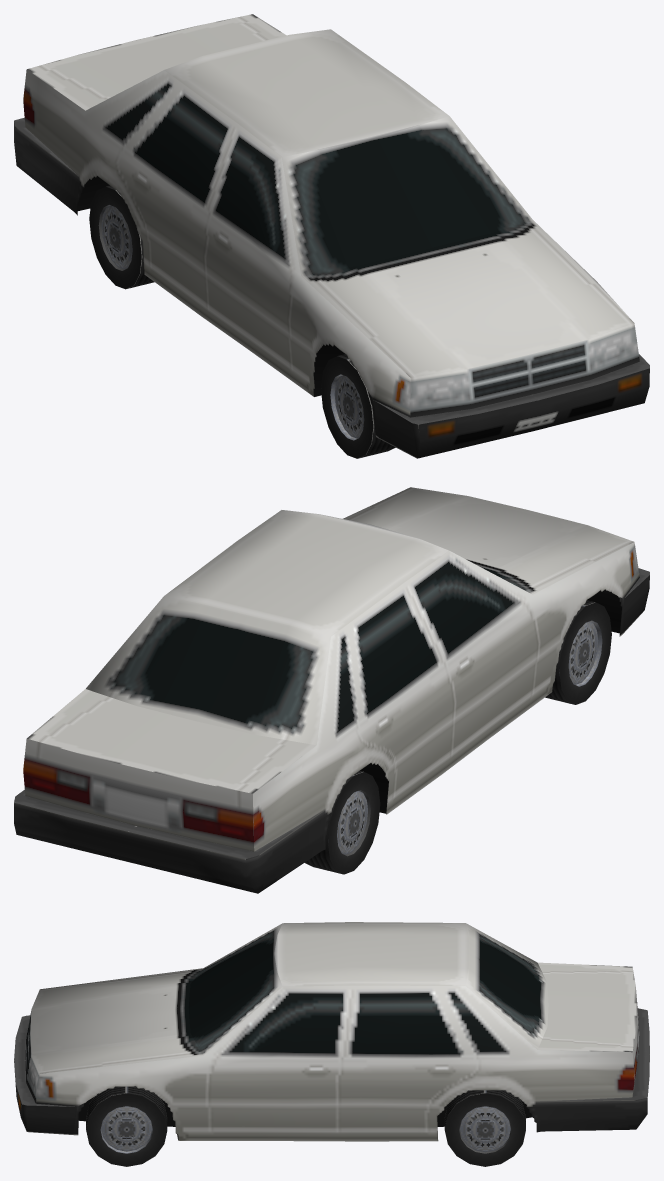
File: sedan.obj
3 views of the same model, one above another, from view 1: azimuth 30°, elevation 25°; view 2: azimuth 150°, elevation 25°; view 3: azimuth 270°, elevation 25° (orthographic). The views are drawn at different scales.
Visible parts, largest first — view 1: Body_Cube.001, Wheel_FR_Cylinder, Wheels_RR_Cylinder.003; view 2: Body_Cube.001, Wheels_RR_Cylinder.003, Wheel_FR_Cylinder; view 3: Body_Cube.001, Wheels_FL_Cylinder.002, Wheels_RL_Cylinder.001.
Boxes of the visible parts, left/top/right/bottom form: Body_Cube.001: left=14, top=14, right=649, bottom=458; Wheel_FR_Cylinder: left=321, top=354, right=395, bottom=458; Wheels_RR_Cylinder.003: left=89, top=185, right=154, bottom=289; Body_Cube.001: left=14, top=487, right=649, bottom=893; Wheels_RR_Cylinder.003: left=304, top=770, right=380, bottom=874; Wheel_FR_Cylinder: left=545, top=600, right=611, bottom=704; Body_Cube.001: left=14, top=922, right=649, bottom=1141; Wheels_FL_Cylinder.002: left=86, top=1086, right=167, bottom=1166; Wheels_RL_Cylinder.001: left=444, top=1090, right=525, bottom=1166.
Bounding box in the file's own units: 1.02 × 0.8487 × 2.85.
Materials: 1 (1 with a texture image).
